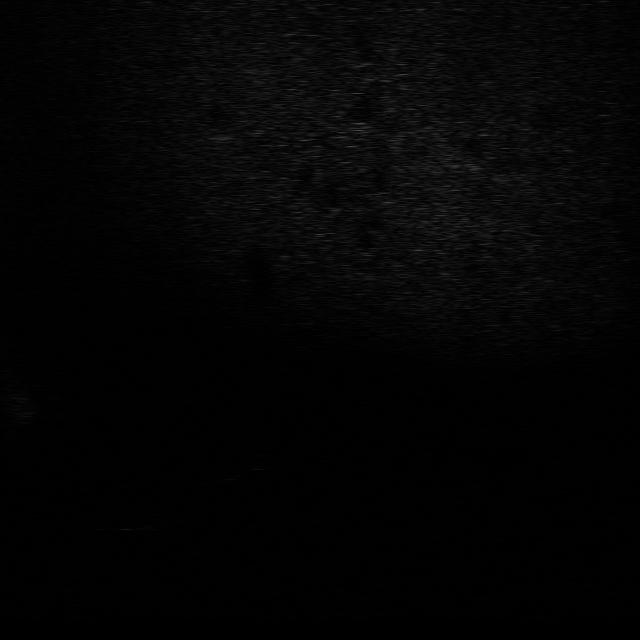ball: (236, 448, 289, 472)
square cage: (123, 498, 205, 528)
